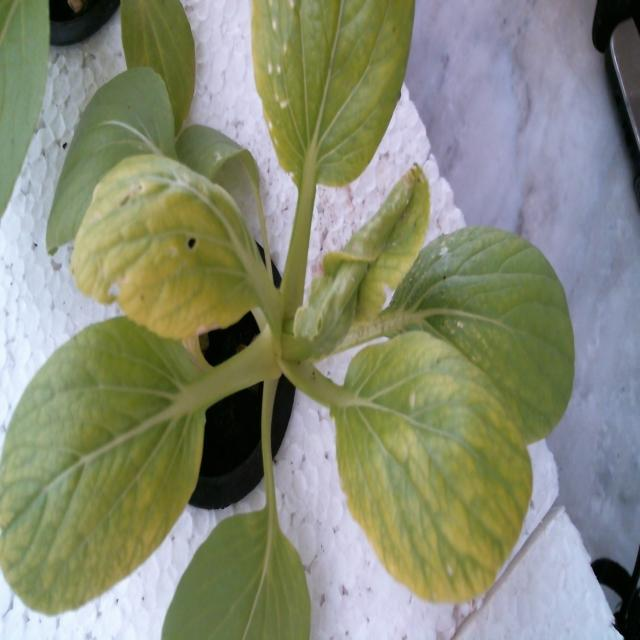pakcoy_tidak_sehat: (7, 3, 576, 627)
